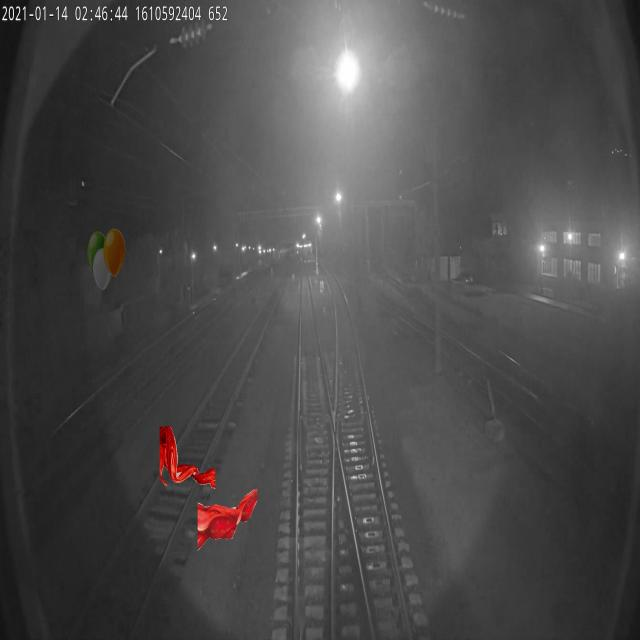balloon: (87, 228, 125, 292)
floating object: (198, 487, 257, 551), (160, 426, 216, 490)
